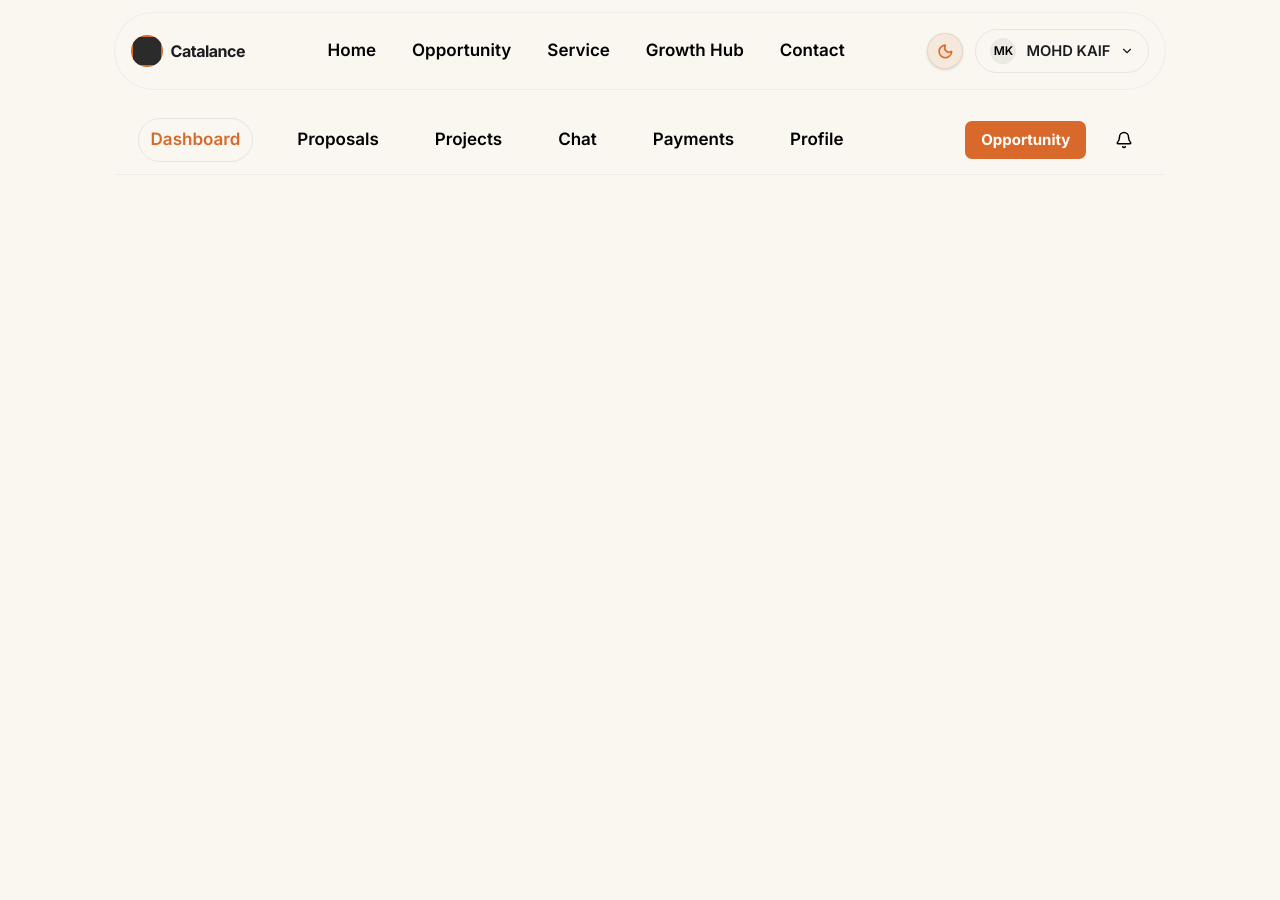
Scenario: workspace header dashboard switching › shows 'Switch to Client' for freelancer-only accounts
Click the button "MK MOHD KAIF" at (1062, 51), box [975,29,1149,73]
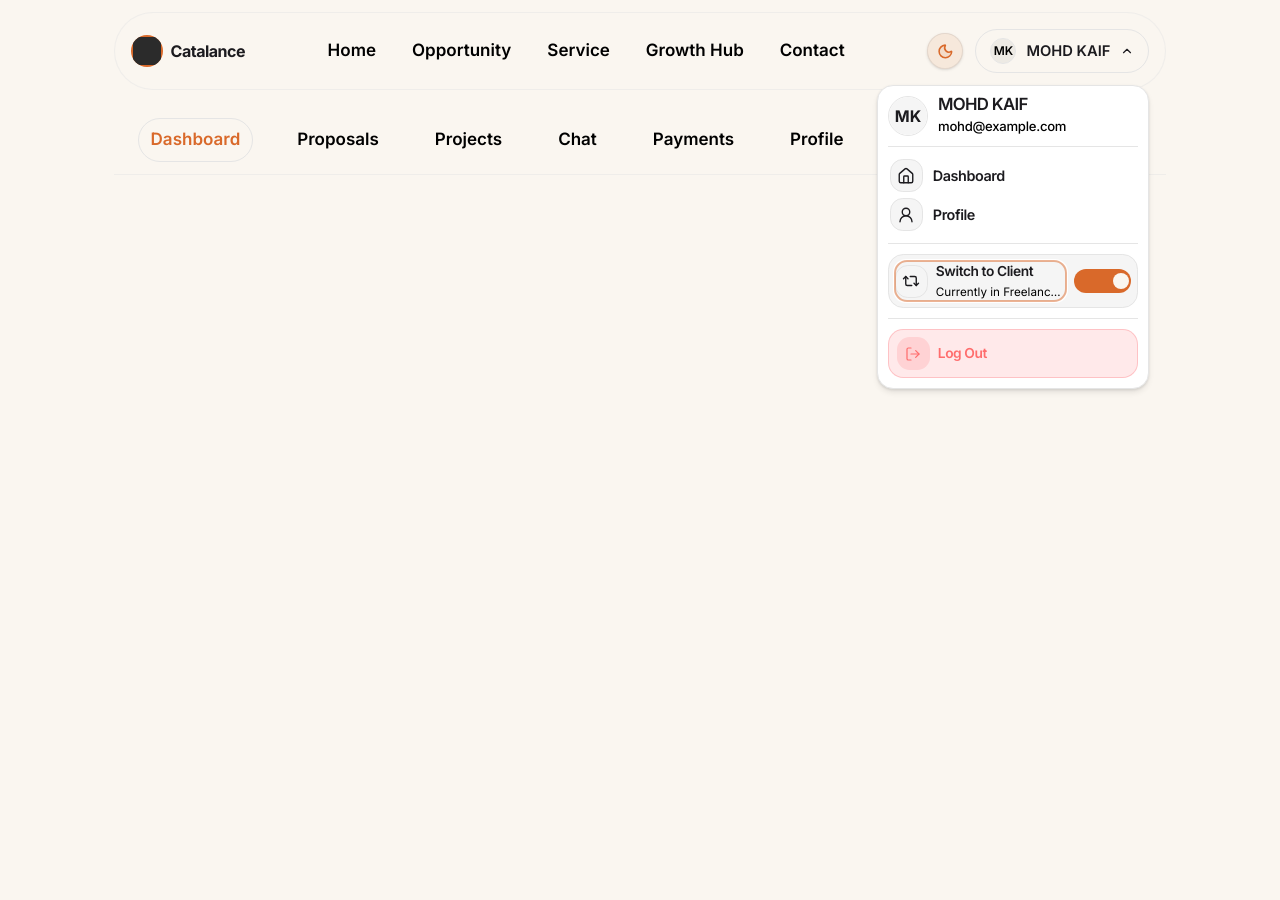
Expected: the text "Switch to Client" is shown, [936,263,1033,279]
Expected: the text "Currently in Freelancer mode" is shown, [936,284,1066,301]
